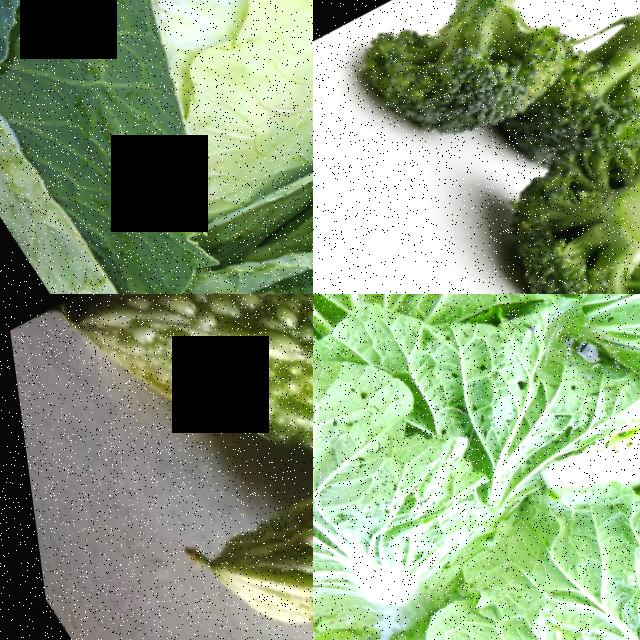bitter gourd: (93, 294, 313, 571), (177, 431, 313, 640)
broccoli: (313, 0, 584, 166), (488, 0, 640, 183), (471, 130, 640, 294)
cabbage: (0, 0, 313, 294)
